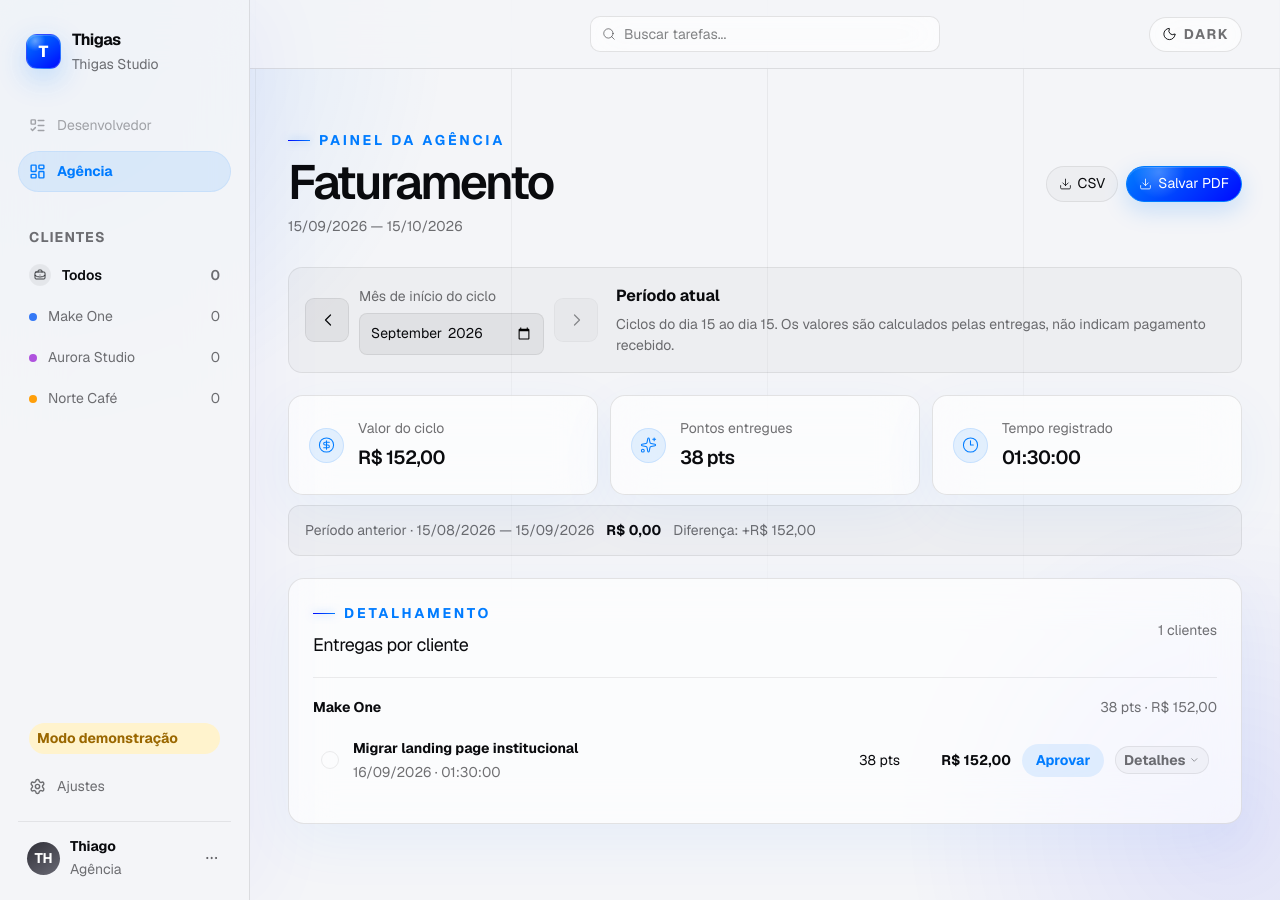
Scenario: detalhamento da pontuação na visão Agência › explica pontos-base, bônus e justificativa de cada entrega
What coordinates should you click on to do the following:
click the button with aria-label "Ver detalhes de Migrar landing page institucional"
I would click on:
 (1162, 760)
Its box is [1115,746,1209,774].
(page scrolled)
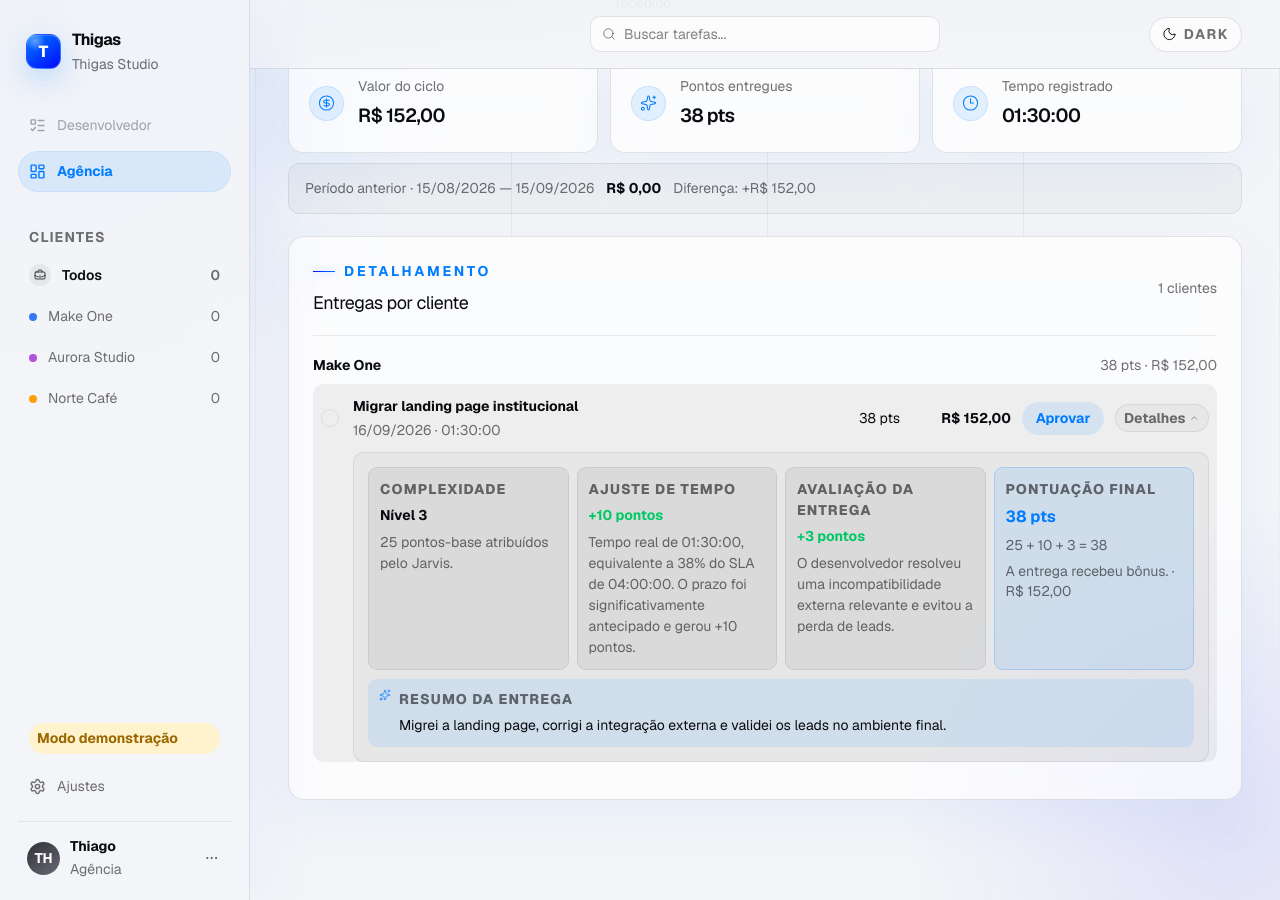
expect the button with aria-label "Ocultar detalhes de Migrar landing page institucional" is expanded: met, box [1115,404,1209,432]
expect the text "Nível 3" is shown: met, box [380,506,427,524]
expect the text "25 pontos-base atribuídos pelo Jarvis." is shown: met, box [380,532,556,574]
